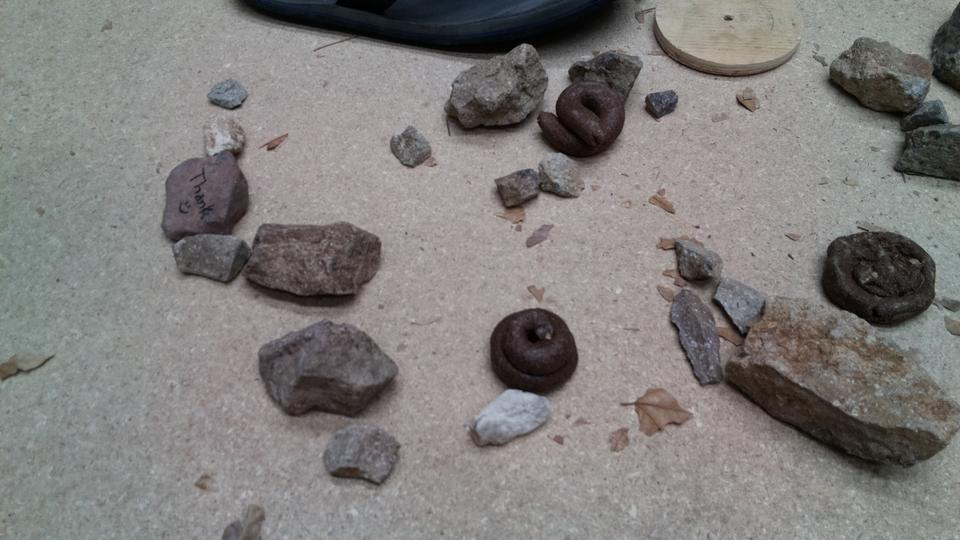poop: (818, 225, 938, 332), (486, 306, 580, 395), (537, 78, 625, 159)
